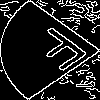F: (25, 25, 100, 80)
